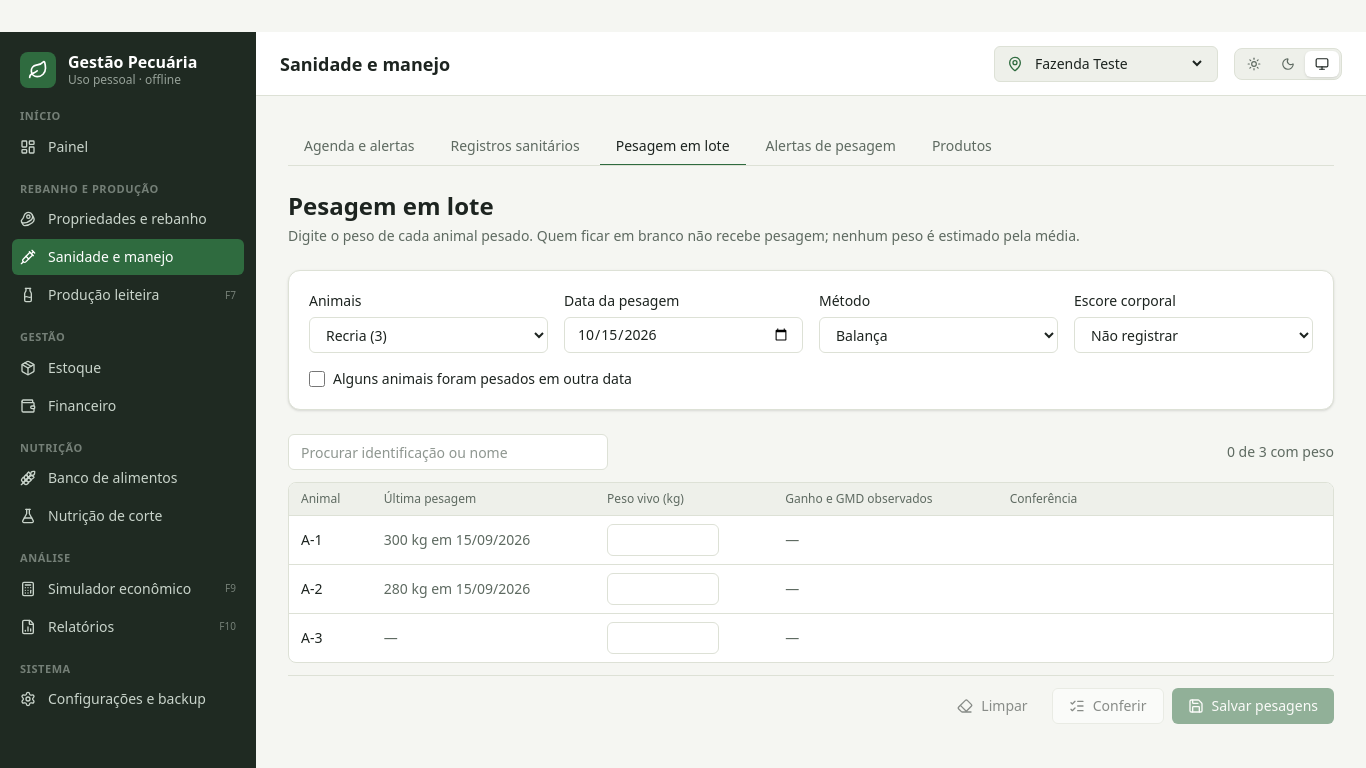
Test case: pesagem em lote › envia só os animais com peso digitado e mostra o erro de cada um
(page scrolled)
Type "320" into the field named "Peso de A-1" at (663, 540), box [607,524,719,556]
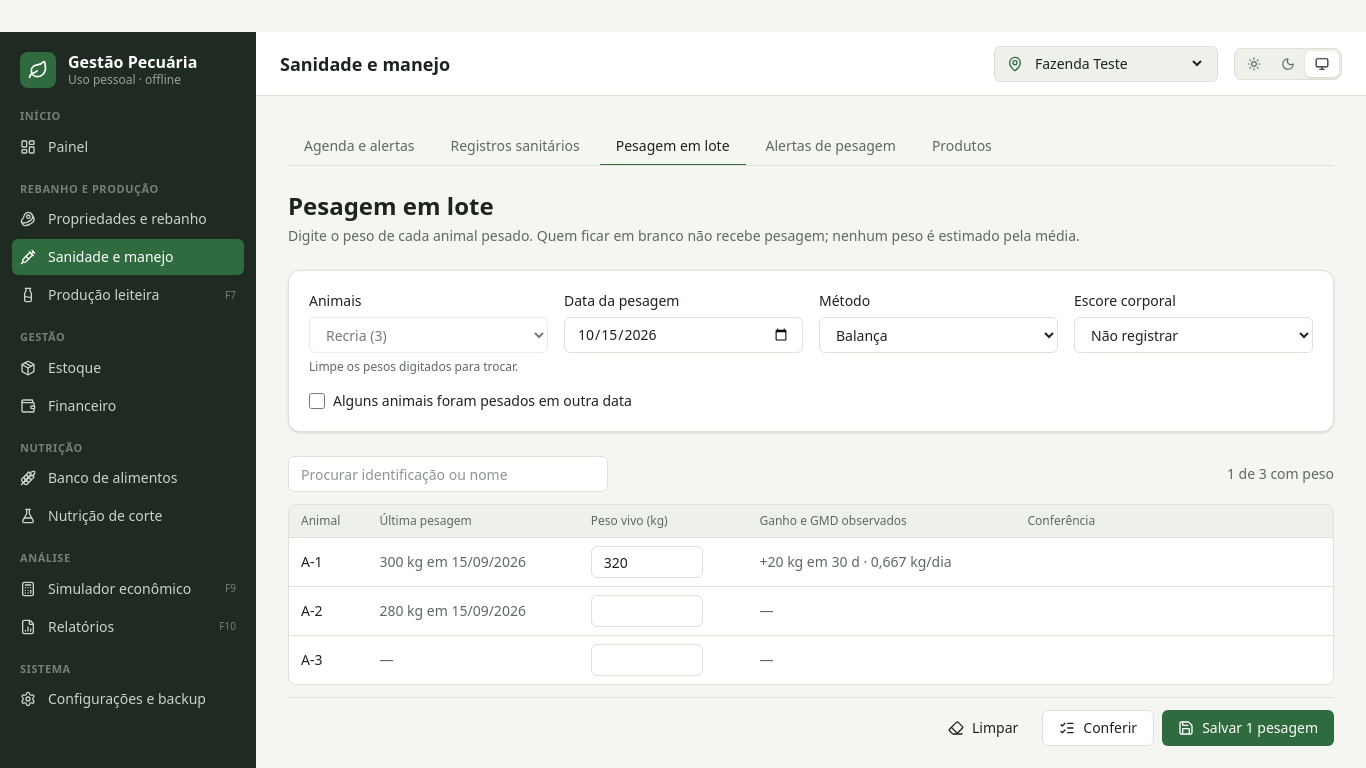
Type "250" into the field named "Peso de A-3" at (647, 660), box [591,644,703,676]
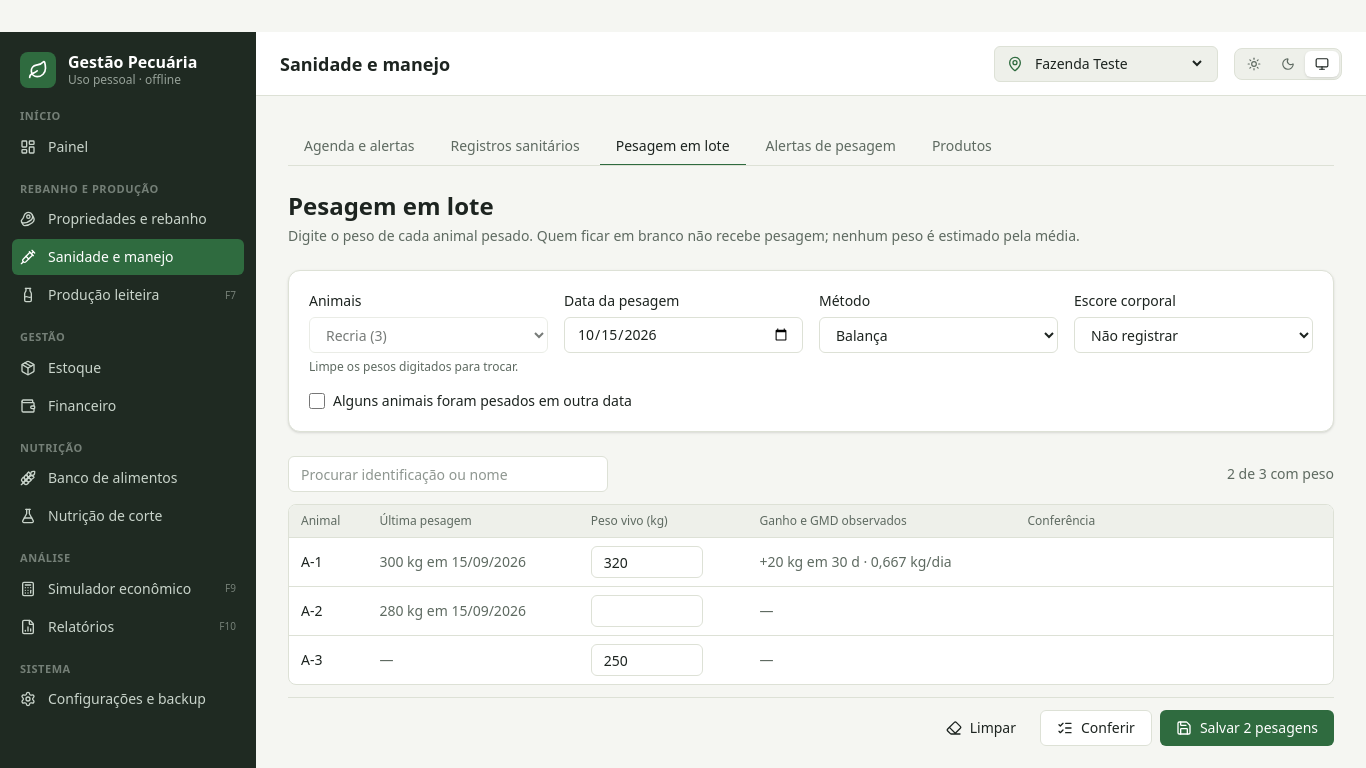
Expected: the row named "Peso de A-1" shows "+20 kg em 30 d", [289,538,1333,586]
Expected: the text with test id "contador-pesagem" reads "2 de 3 com peso", [1227,464,1334,484]
Click the button "Salvar 2 pesagens" at (1247, 728), box [1160,710,1334,746]
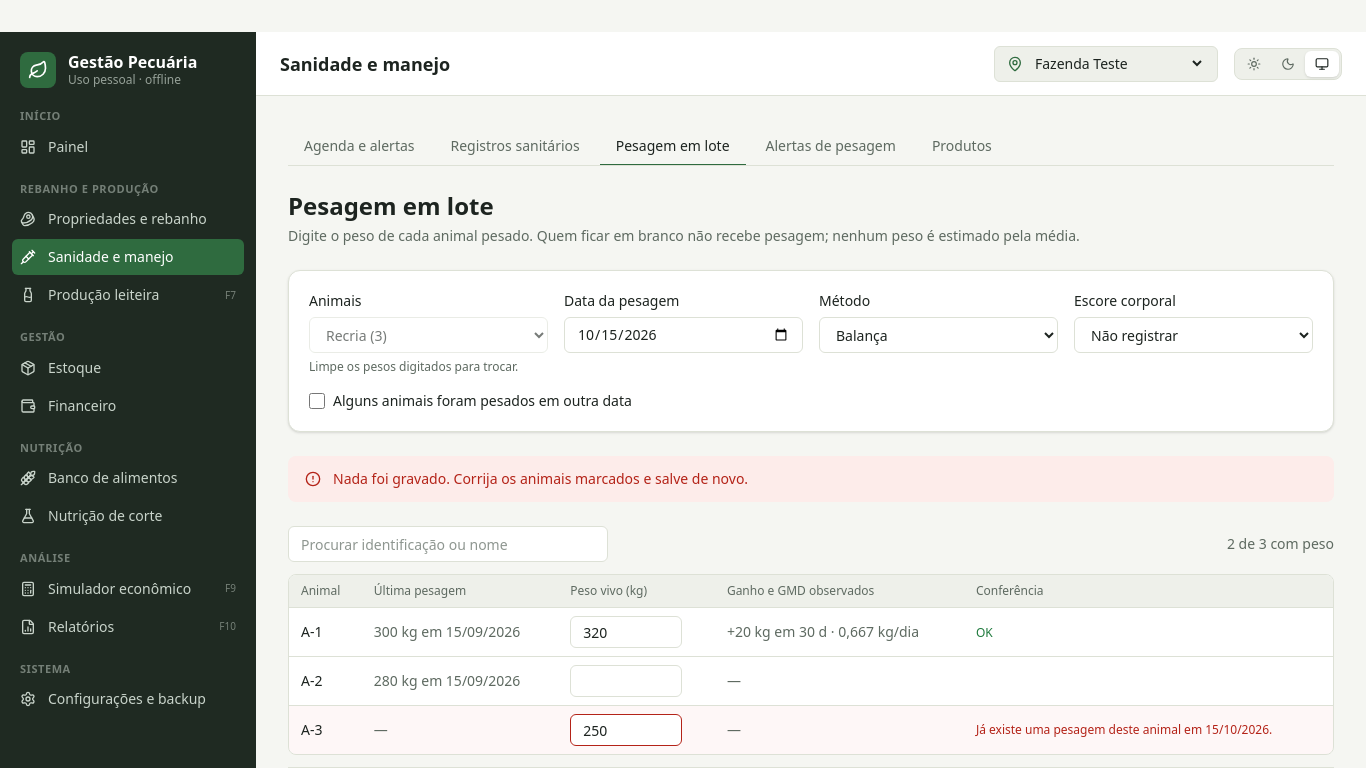
Expected: the list with test id "erros-A-3" shows "Já existe uma pesagem", [976,721,1272,738]
Expected: the text "Nada foi gravado" is shown, [333,469,748,488]
